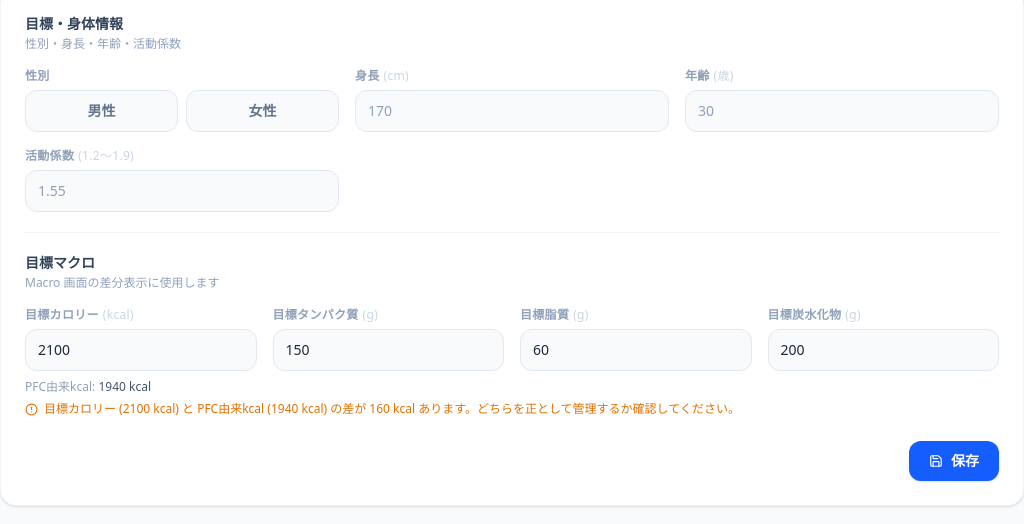
Test: SettingsForm — PFC kcal 整合性警告 › 入力変更で警告表示がリアルタイムに更新される
Expected: the text "どちらを正として管理するか" is shown, [44,400,740,417]
target_calories_kcal を 1940 に変更 → 差分 0 → 警告消える
Replace the text in the 1st number field with placeholder "2000" with "1940" at [141, 350], box [25,329,256,371]
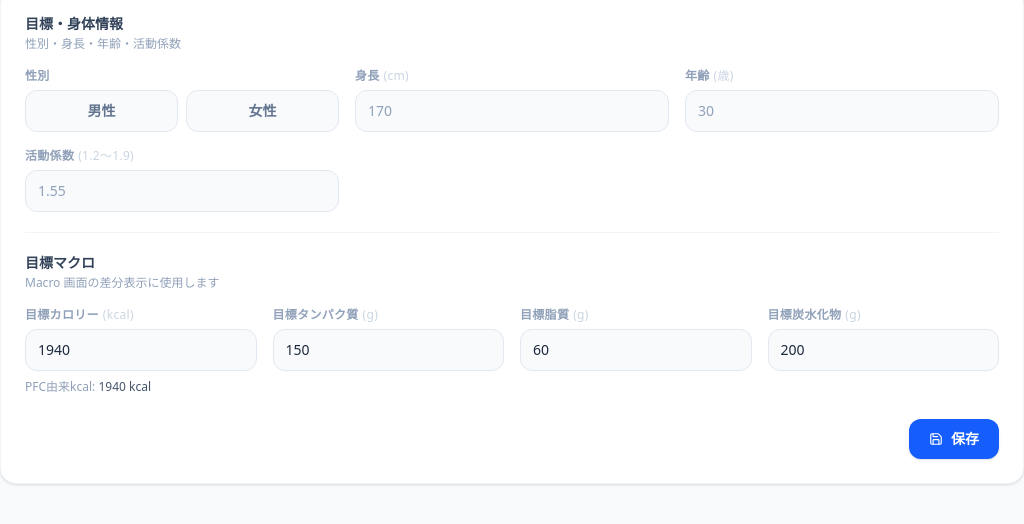
Expected: the text "どちらを正として管理するか" is gone
